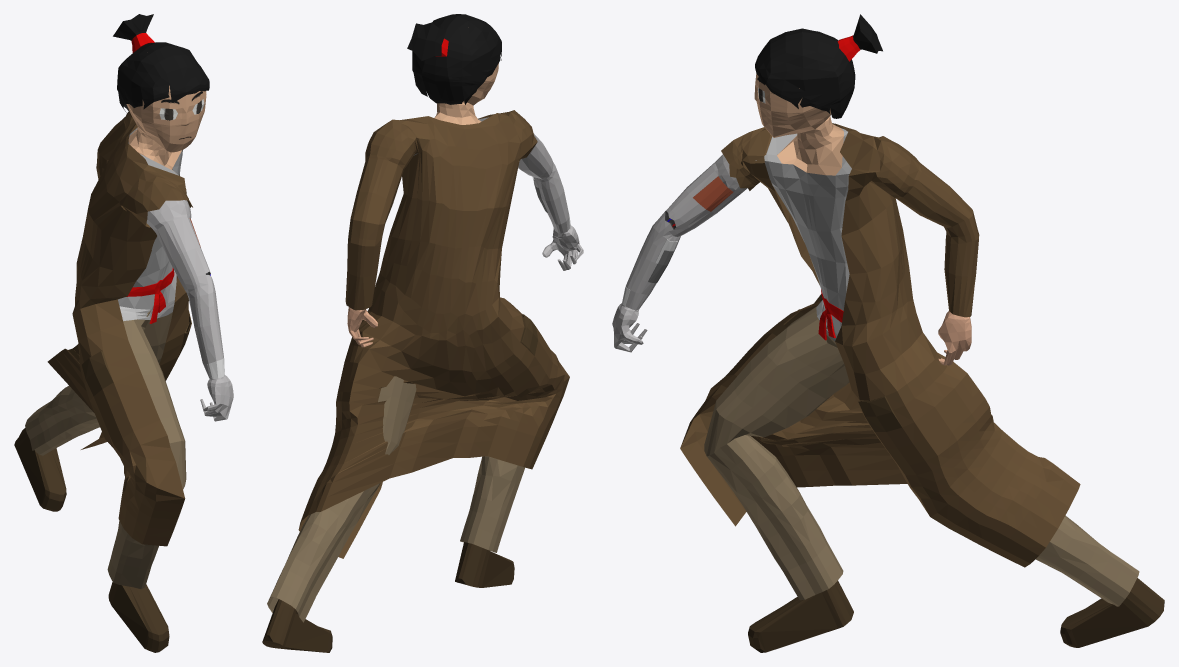
File: OneAnimationTest_000016.obj
3 renders of one model, left to right at view 1: azimuth 30°, elevation 25°; view 2: azimuth 150°, elevation 25°; view 3: azimuth 270°, elevation 25°, orthographic. The views are drawn at different scales.
Visible parts, largest first — view 1: Jacket_Cube, Body_Cube.003, Hair_Cube.004; view 2: Jacket_Cube, Body_Cube.003, Hair_Cube.004; view 3: Jacket_Cube, Body_Cube.003, Hair_Cube.004.
Boxes of the visible parts, bbox=[...] form: Jacket_Cube: bbox=[47, 111, 192, 546]; Body_Cube.003: bbox=[14, 85, 233, 652]; Hair_Cube.004: bbox=[113, 14, 209, 112]; Jacket_Cube: bbox=[298, 110, 569, 558]; Body_Cube.003: bbox=[262, 63, 583, 652]; Hair_Cube.004: bbox=[407, 14, 501, 104]; Jacket_Cube: bbox=[680, 123, 1080, 567]; Body_Cube.003: bbox=[612, 74, 1164, 652]; Hair_Cube.004: bbox=[755, 14, 882, 118].
Size of the model in its own units: 0.8885 by 3.63 by 2.82.
